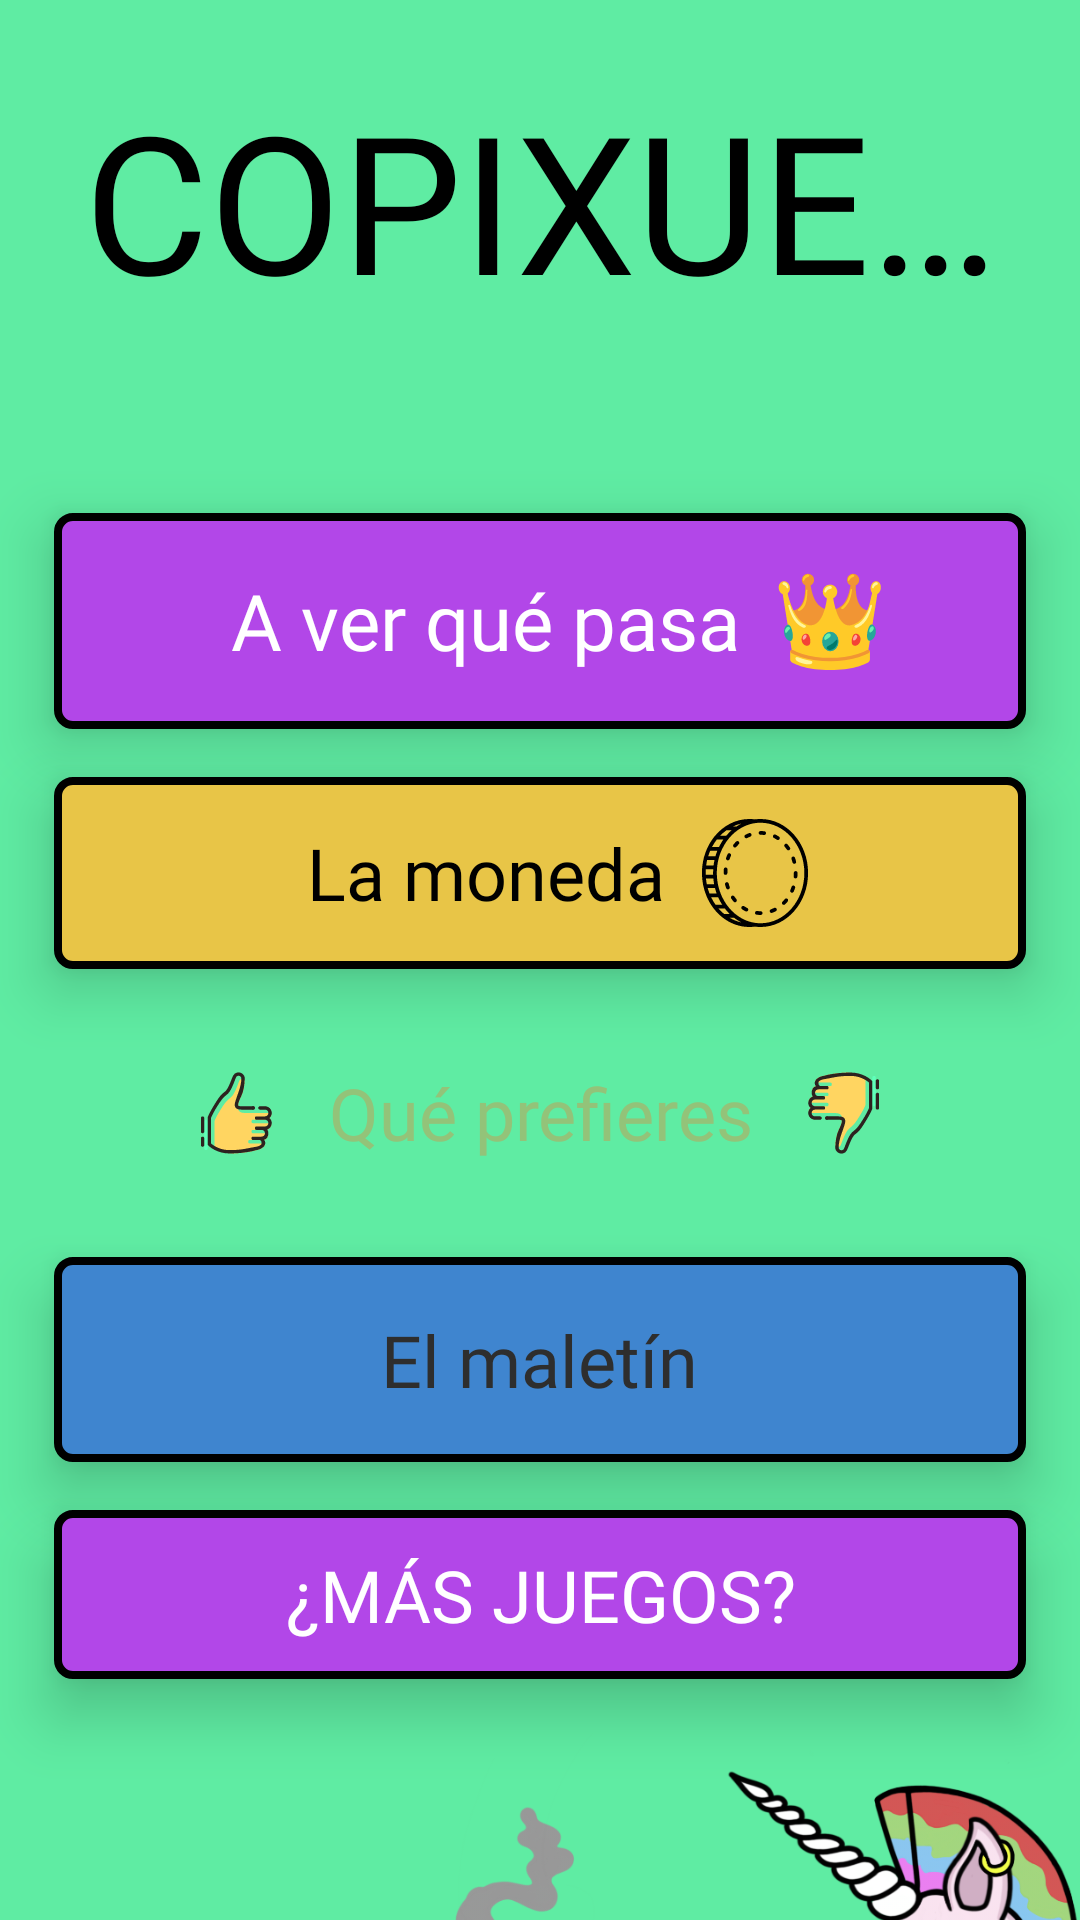

Where to tap for icons on this 1080*1920 app screen, as point (x, y):
crown: point (829, 621)
